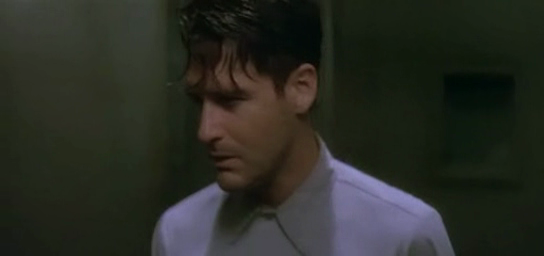cu: (1, 1, 544, 256)
face: (182, 45, 275, 193)
person: (151, 1, 455, 256)
